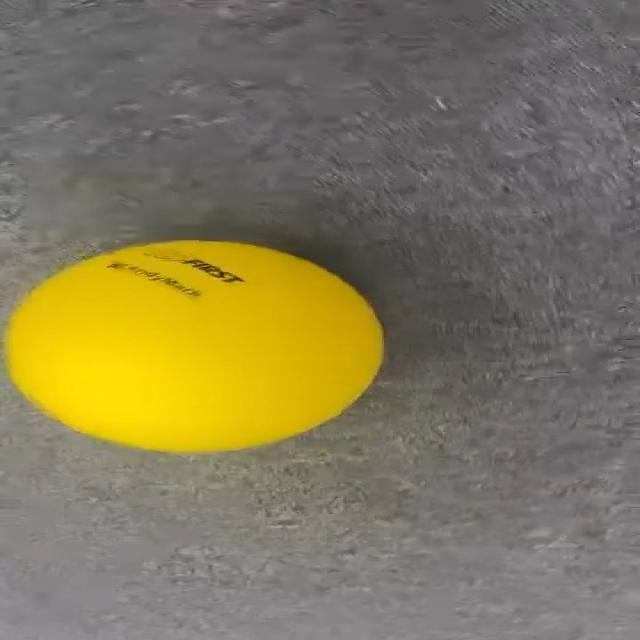Fuels: (5, 240, 382, 453)
